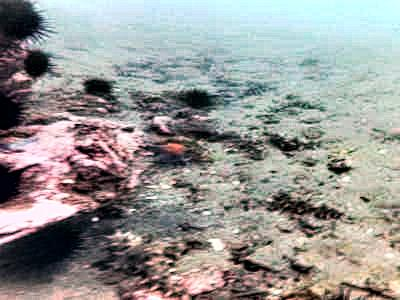urchin: (10, 223, 80, 276), (3, 4, 51, 43), (2, 94, 29, 133), (176, 89, 213, 110), (23, 47, 48, 76), (2, 164, 19, 205), (83, 78, 115, 98)
